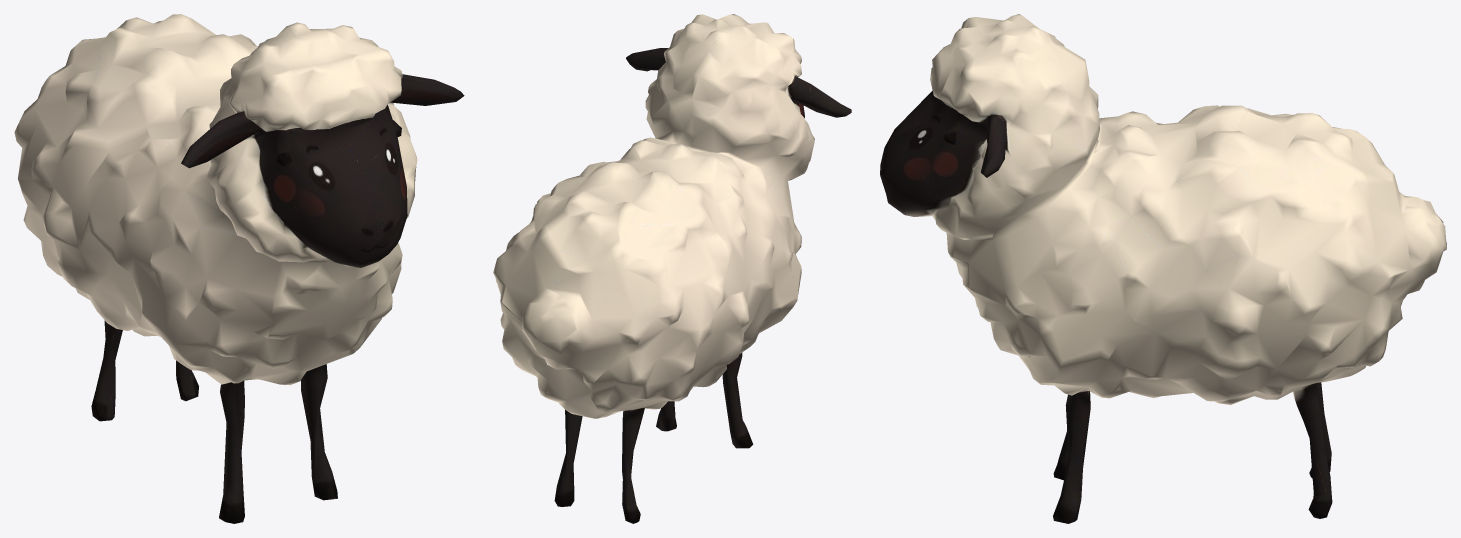
File: sheep.glb
3 views of the same model, side by side, from view 1: azimuth 30°, elevation 25°; view 2: azimuth 150°, elevation 25°; view 3: azimuth 270°, elevation 25° (orthographic). The views are drawn at different scales.
Bounding box in the file's own units: 1.05 × 1.73 × 1.9.
Materials: 1 (1 with a texture image).
